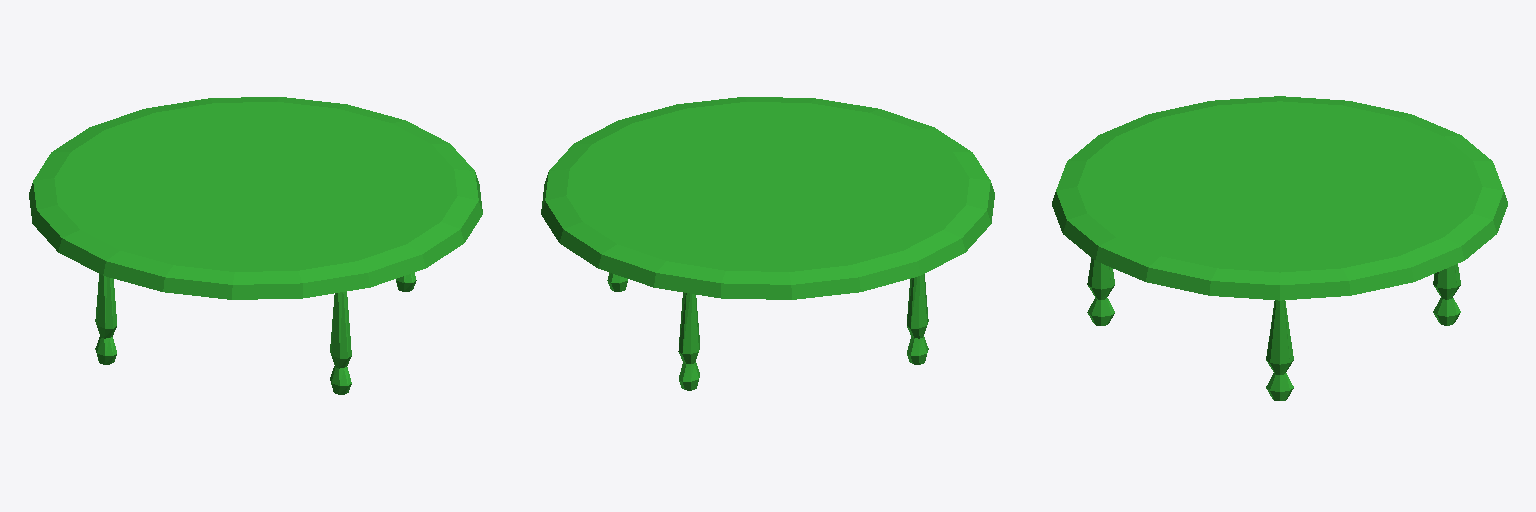
Rendered from Texture_TAble.obj.
3 renders of one model, left to right at view 1: azimuth 30°, elevation 25°; view 2: azimuth 150°, elevation 25°; view 3: azimuth 270°, elevation 25°, orthographic.
Parts seen in each view (by area): view 1: pCylinder1, pCylinder2 pCylinder3 pCylinder4 pCylinder5; view 2: pCylinder1, pCylinder2 pCylinder3 pCylinder4 pCylinder5; view 3: pCylinder1, pCylinder2 pCylinder3 pCylinder4 pCylinder5.
Part boxes in pixels (left/top/right/bottom): pCylinder1: left=29, top=97, right=482, bottom=299; pCylinder2 pCylinder3 pCylinder4 pCylinder5: left=95, top=273, right=416, bottom=394; pCylinder1: left=541, top=97, right=994, bottom=299; pCylinder2 pCylinder3 pCylinder4 pCylinder5: left=607, top=273, right=928, bottom=390; pCylinder1: left=1052, top=96, right=1507, bottom=300; pCylinder2 pCylinder3 pCylinder4 pCylinder5: left=1087, top=258, right=1460, bottom=400.
Size of the model in its own units: 13.22 by 4.41 by 13.22.